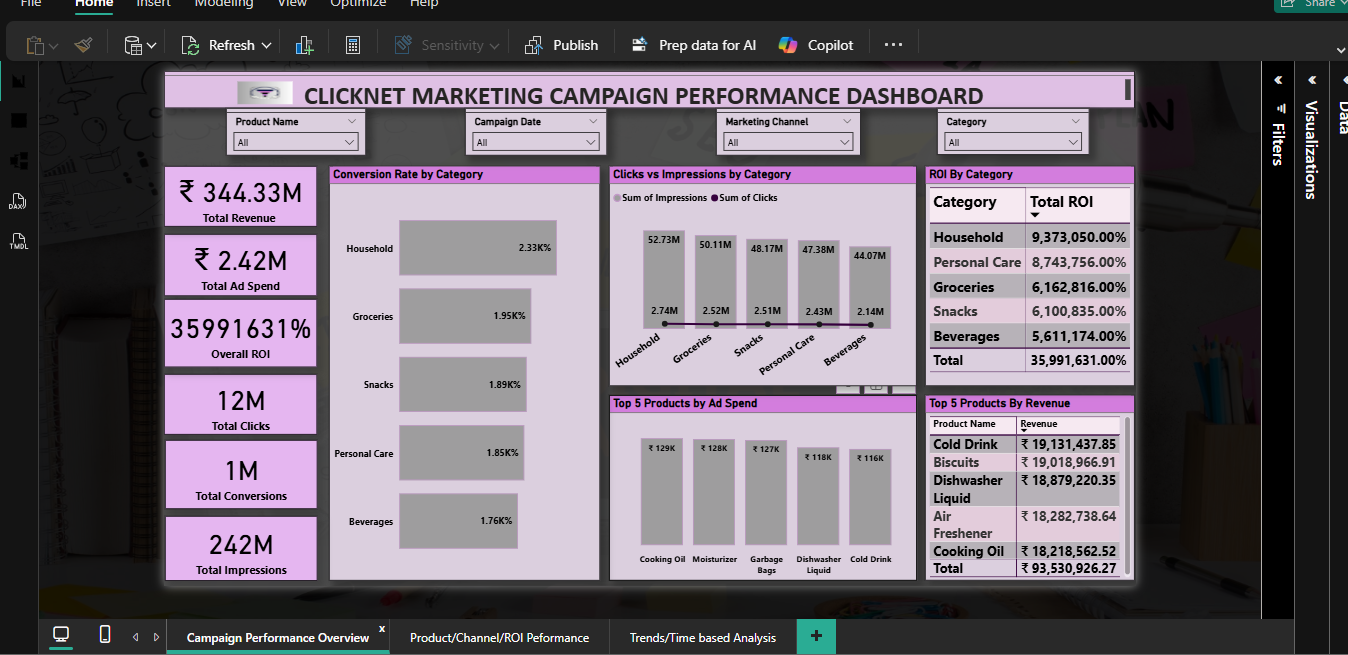

What the dashboard file says about the page in this screenshot:
{"tool":"powerbi","page":{"name":"Campaign Performance Overview","canvas":[1408,747],"ordinal":0},"visuals":[{"type":"card","title":"T","fields":{"Values":["Sum(Clean PowerBI Dataset.Ad Spend (INR))"]},"box":[0,235.8,222.4,89.6],"z":0},{"type":"textbox","box":[0,0,1407.5,53.7],"z":1000},{"type":"card","fields":{"Values":["Sum(Clean PowerBI Dataset.Clicks)"]},"box":[0,438.8,222.4,88.1],"z":2000},{"type":"card","fields":{"Values":["Sum(Clean PowerBI Dataset.Conversions)"]},"box":[1.5,534.3,220.9,100],"z":3000},{"type":"card","fields":{"Values":["Sum(Clean PowerBI Dataset.Revenue (INR))"]},"box":[0,137.3,222.4,88.1],"z":4000},{"type":"card","fields":{"Values":["Sum(Clean PowerBI Dataset.ROI)"]},"box":[0,329.9,222.4,98.5],"z":5000},{"type":"columnChart","title":"Top 5 Products by Ad Spend","fields":{"Category":["Clean PowerBI Dataset.Product Name"],"Y":["Sum(Clean PowerBI Dataset.Ad Spend (INR))"]},"box":[644.3,470,447.1,268.6],"z":6000},{"type":"barChart","title":"Conversion Rate by Category","fields":{"Category":["Clean PowerBI Dataset.Category"],"Y":["Sum(Clean PowerBI Dataset.Conversion Rate)"]},"box":[238.8,137.3,392.5,601.5],"z":7000},{"type":"tableEx","title":"Top 5 Products By Revenue","fields":{"Values":["Clean PowerBI Dataset.Product Name","Sum(Clean PowerBI Dataset.Revenue (INR))"]},"box":[1103,470.1,304.5,268.7],"z":8000},{"type":"slicer","fields":{"Values":["Clean PowerBI Dataset.Campaign Date"]},"box":[435.8,53.7,206,68.7],"z":9000},{"type":"slicer","fields":{"Values":["Clean PowerBI Dataset.Product Name"]},"box":[89.6,53.7,203,68.7],"z":10000},{"type":"slicer","fields":{"Values":["Clean PowerBI Dataset.Category"]},"box":[1120.5,54.2,221.4,67.8],"z":11000},{"type":"slicer","fields":{"Values":["Clean PowerBI Dataset.Marketing Channel"]},"box":[800,53.7,210.4,68.7],"z":12000},{"type":"card","fields":{"Values":["Sum(Clean PowerBI Dataset.Impressions)"]},"box":[1.5,644.8,220.9,94],"z":13000},{"type":"lineClusteredColumnComboChart","title":"Clicks vs Impressions by Category","fields":{"Category":["Clean PowerBI Dataset.Category"],"Y2":["Sum(Clean PowerBI Dataset.Clicks)"],"Y":["Sum(Clean PowerBI Dataset.Impressions)"]},"box":[644.8,137.3,446.3,319.4],"z":14000},{"type":"tableEx","title":"ROI By Category","fields":{"Values":["Clean PowerBI Dataset.Category","Sum(Clean PowerBI Dataset.ROI)"]},"box":[1103,137.3,304.5,319.4],"z":15000},{"type":"image","box":[102.1,10.8,89.7,43.3],"z":16000}]}

Visuals, with their boxes on the page's 1408x747 design canvas (x1, y1, x2, y2). These are canvas units, not pixel positions in the 1348x655 screenshot, which may show the page scaled, cropped or inside an application window:
"T" card: 0:236:222:325
textbox: 0:0:1408:54
card - Sum(Clean PowerBI Dataset.Clicks): 0:439:222:527
card - Sum(Clean PowerBI Dataset.Conversions): 2:534:222:634
card - Sum(Clean PowerBI Dataset.Revenue (INR)): 0:137:222:225
card - Sum(Clean PowerBI Dataset.ROI): 0:330:222:428
"Top 5 Products by Ad Spend" columnChart: 644:470:1091:739
"Conversion Rate by Category" barChart: 239:137:631:739
"Top 5 Products By Revenue" tableEx: 1103:470:1408:739
slicer - Clean PowerBI Dataset.Campaign Date: 436:54:642:122
slicer - Clean PowerBI Dataset.Product Name: 90:54:293:122
slicer - Clean PowerBI Dataset.Category: 1120:54:1342:122
slicer - Clean PowerBI Dataset.Marketing Channel: 800:54:1010:122
card - Sum(Clean PowerBI Dataset.Impressions): 2:645:222:739
"Clicks vs Impressions by Category" lineClusteredColumnComboChart: 645:137:1091:457
"ROI By Category" tableEx: 1103:137:1408:457
image: 102:11:192:54
